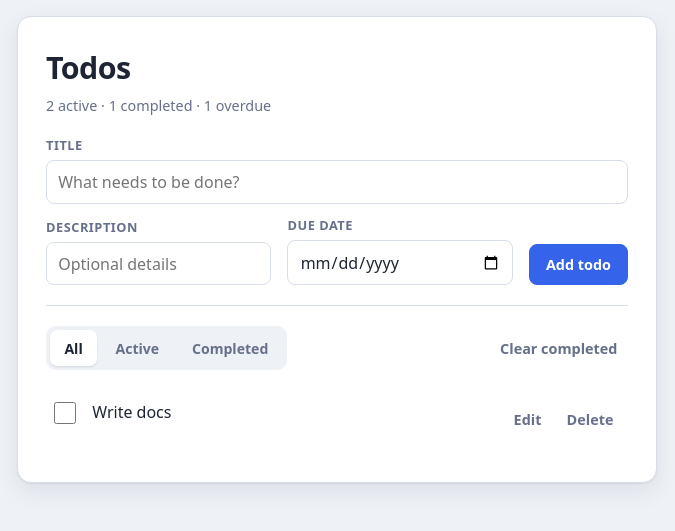
Test: App › shows API validation errors under the title field
expect the text "Write docs" is shown: met, box [92,401,172,423]
Type "Something too long" into the field labelled "Title".
click(337, 182); type("Something too long")  # box [46,160,628,204]
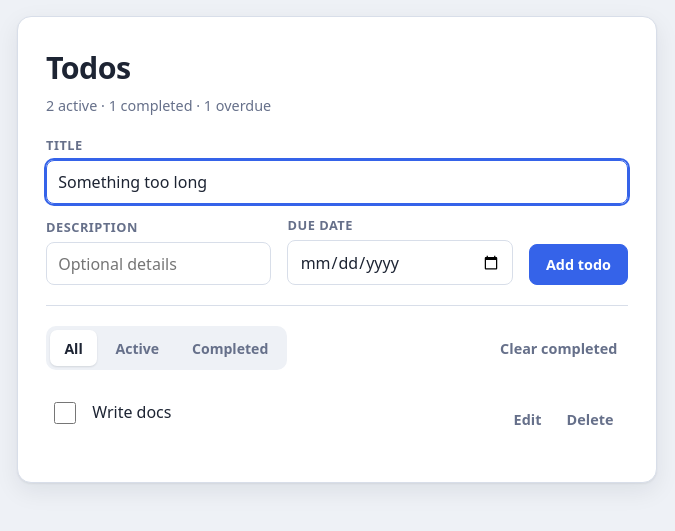
Click the button "Add todo".
click(578, 265)  # box [529,244,628,285]
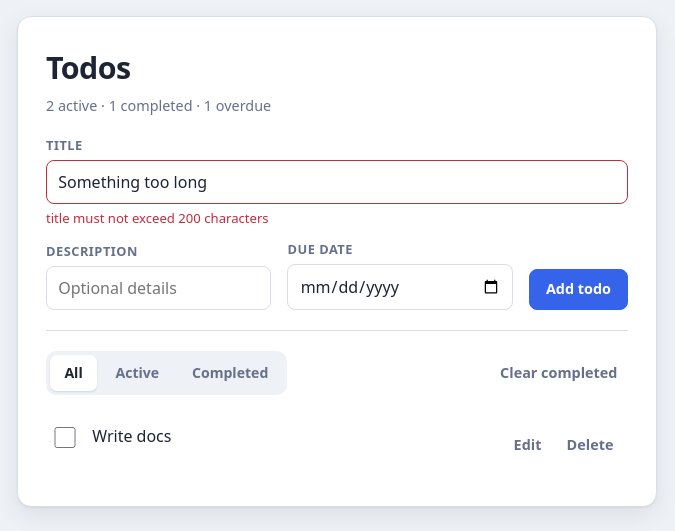
expect the text "title must not exceed 200 characters" is shown: met, box [46,209,269,227]
